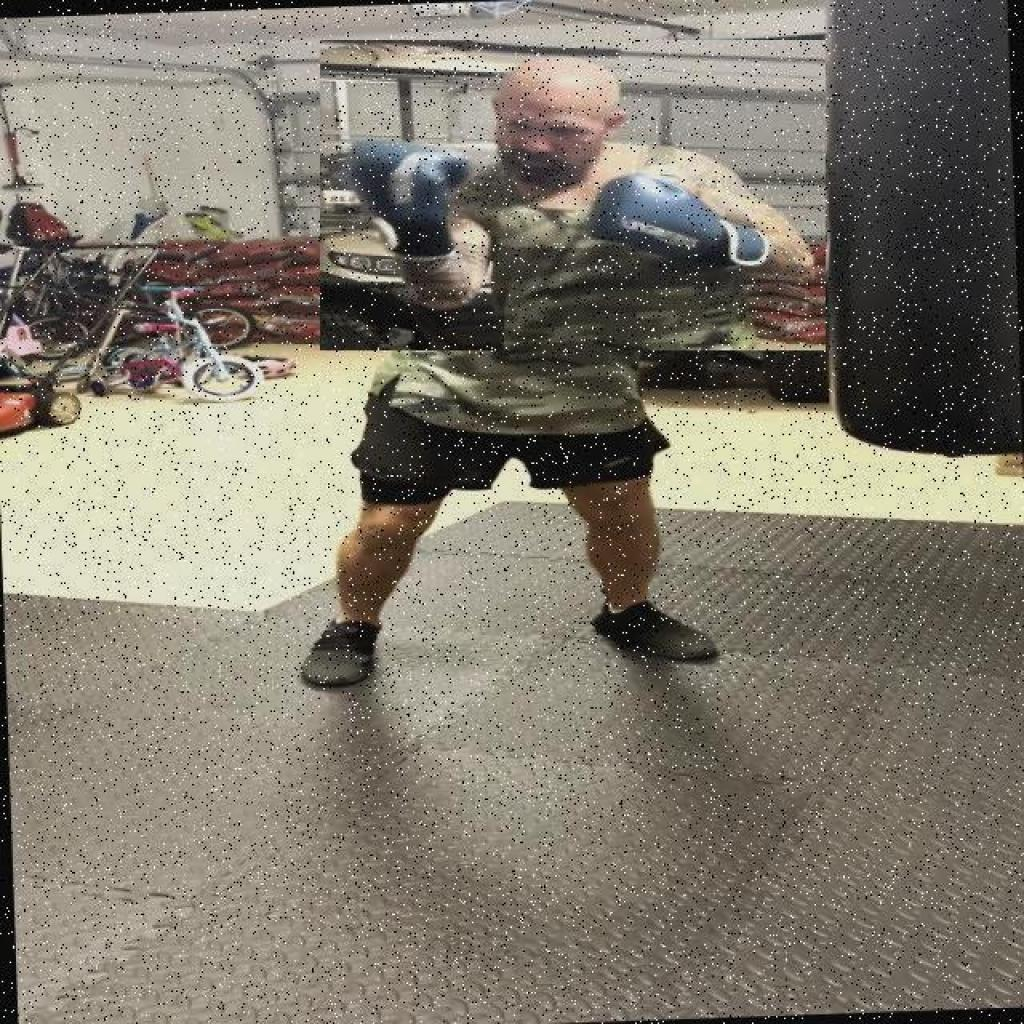bag: (797, 0, 1022, 474)
uppercut: (320, 40, 826, 350)
